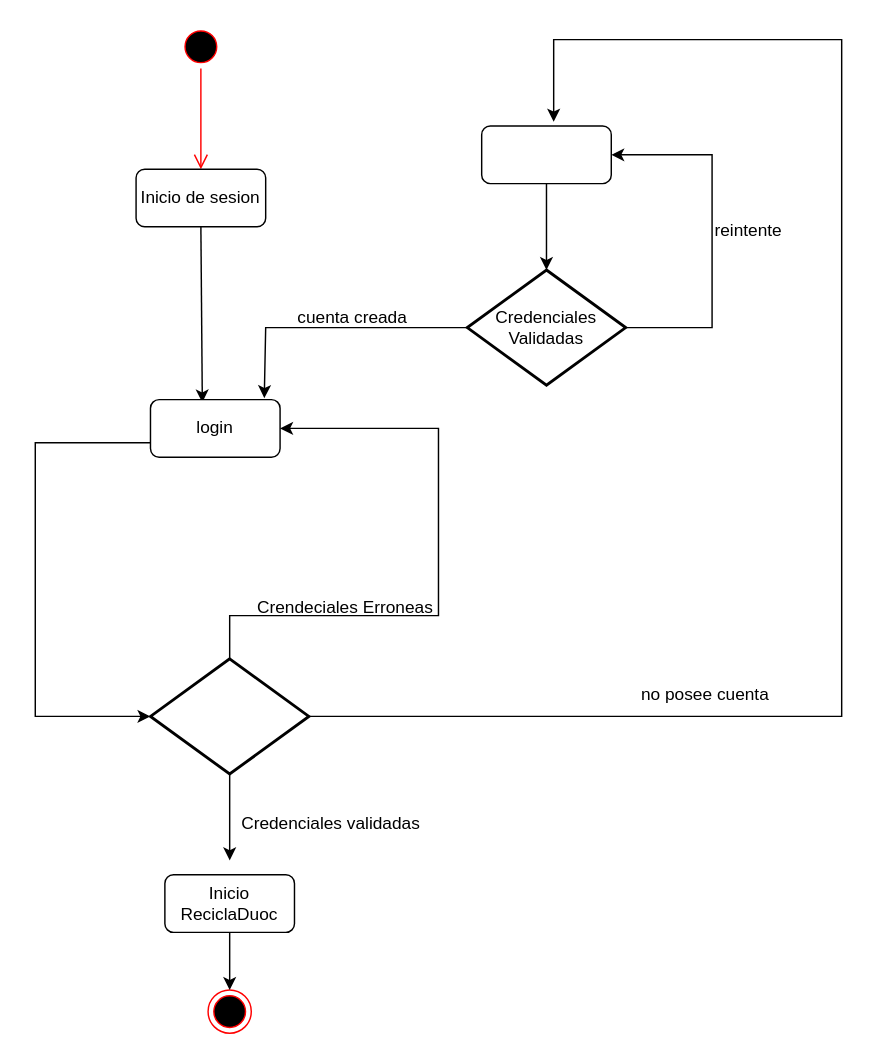
Image size: 878x1058. Some labels were removed from this diagram. The box of each missing label's shape, as (x1, y1, x2, y2) in pixels:
Ingresar Credenciales: (148, 657, 310, 775)
Registrarse: (480, 125, 611, 184)
